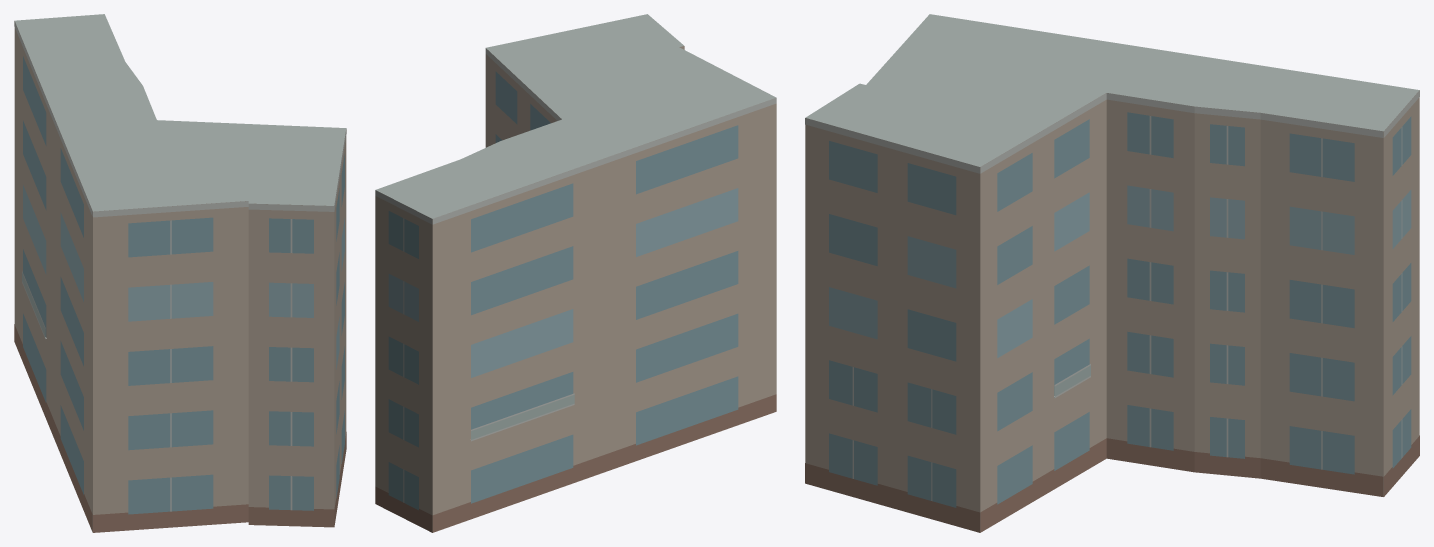
File: survey-upis-32626412.glb
The picture shows the model from 3 angles, left to right: view 1: azimuth 30°, elevation 25°; view 2: azimuth 150°, elevation 25°; view 3: azimuth 270°, elevation 25°; orthographic projection. The views are drawn at different scales.
Parts seen in each view (by area): view 1: survey-upis-32626412.tmp; view 2: survey-upis-32626412.tmp; view 3: survey-upis-32626412.tmp.
Boxes of the visible parts, x1,y1,x2,y2 form: survey-upis-32626412.tmp: (14, 14, 346, 532); survey-upis-32626412.tmp: (375, 14, 776, 532); survey-upis-32626412.tmp: (805, 14, 1419, 532).
Bounding box in the file's own units: 11.86 × 13.2 × 20.11.
